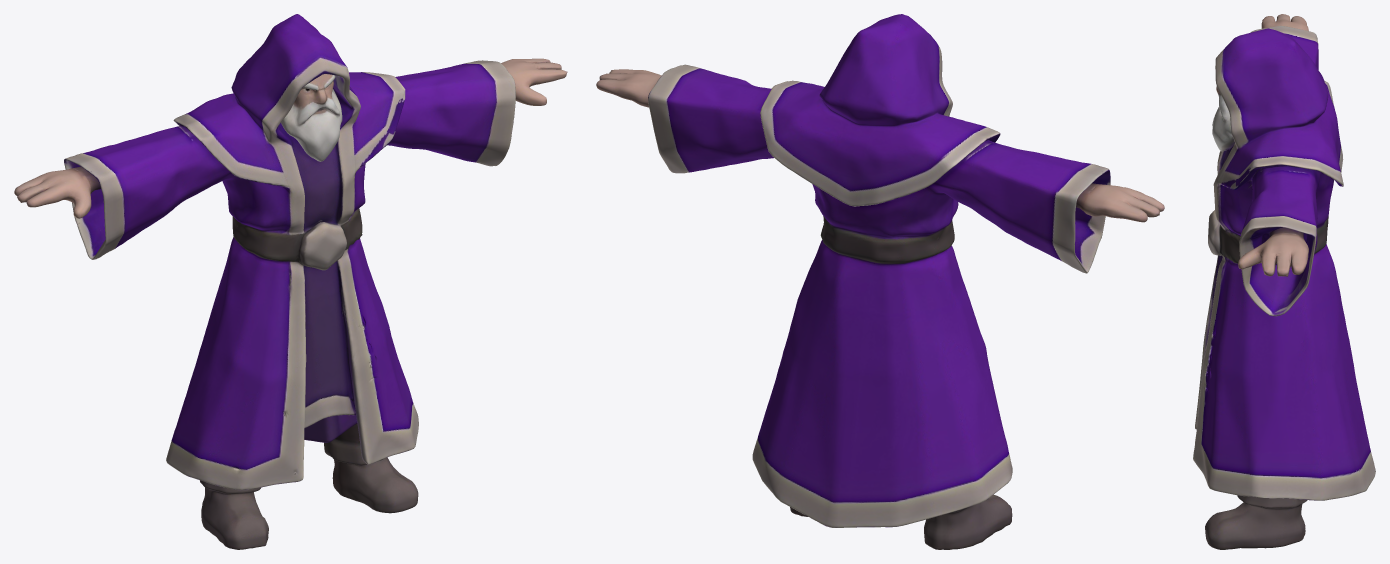
File: purple+wizard+3d+model.glb
3 views of the same model, side by side, from view 1: azimuth 30°, elevation 25°; view 2: azimuth 150°, elevation 25°; view 3: azimuth 270°, elevation 25° (orthographic). The views are drawn at different scales.
Parts seen in each view (by area): view 1: tripo_node_8e90789c-009e-4322-a31d-04130a2fcd04; view 2: tripo_node_8e90789c-009e-4322-a31d-04130a2fcd04; view 3: tripo_node_8e90789c-009e-4322-a31d-04130a2fcd04.
Boxes of the visible parts, box(x1,y1,x2,y2) form: tripo_node_8e90789c-009e-4322-a31d-04130a2fcd04: box(14, 14, 567, 549); tripo_node_8e90789c-009e-4322-a31d-04130a2fcd04: box(596, 14, 1164, 549); tripo_node_8e90789c-009e-4322-a31d-04130a2fcd04: box(1193, 14, 1375, 549).
Bounding box in the file's own units: 0.9776 × 0.8331 × 0.292.
Materials: 1 (1 with a texture image).
